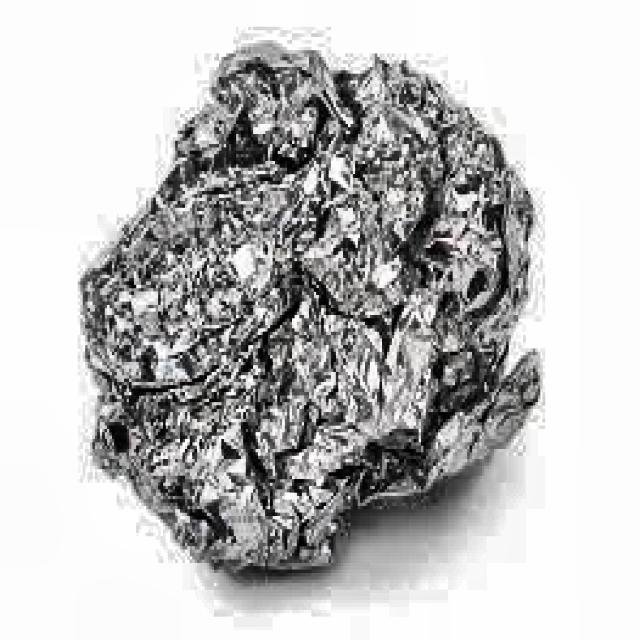Foil: (55, 33, 571, 585)
